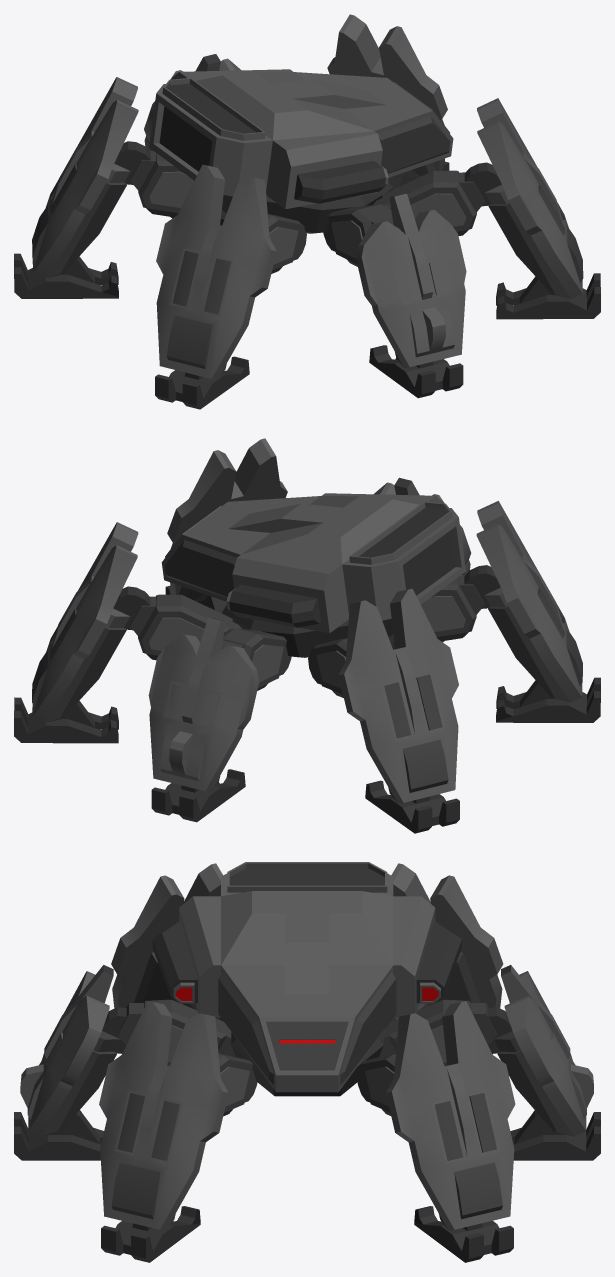
File: Boss.fbx
3 views of the same model, one above another, from view 1: azimuth 30°, elevation 25°; view 2: azimuth 150°, elevation 25°; view 3: azimuth 270°, elevation 25° (orthographic). The views are drawn at different scales.
Parts seen in each view (by area): view 1: Cube.255, Cube.350, Cube.351, Cube.286, Cube.348, Cube.287, Cube.349, Cube.345, Cube.302, Cube.303, Cube.346, Cube.344 (+4 smaller); view 2: Cube.255, Cube.286, Cube.312, Cube.350, Cube.287, Cube.348, Cube.298, Cube.296, Cube.344, Cube.347, Cube.314, Cube.302 (+4 smaller); view 3: Cube.255, Cube.348, Cube.287, Cube.351, Cube.312, Cube.286, Cube.350, Cube.314, Cube.346, Cube.296, Cube.345, Cube.352 (+4 smaller).
Boxes of the visible parts, left/top/right/bottom form: Cube.255: left=149, top=69, right=453, bottom=209; Cube.350: left=156, top=164, right=276, bottom=379; Cube.351: left=356, top=193, right=466, bottom=367; Cube.286: left=32, top=77, right=150, bottom=278; Cube.348: left=464, top=98, right=583, bottom=298; Cube.287: left=327, top=14, right=447, bottom=177; Cube.349: left=373, top=170, right=484, bottom=235; Cube.345: left=496, top=273, right=600, bottom=319; Cube.302: left=14, top=253, right=118, bottom=298; Cube.303: left=130, top=151, right=226, bottom=219; Cube.346: left=369, top=345, right=463, bottom=398; Cube.344: left=155, top=356, right=249, bottom=409; Cube.255: left=161, top=493, right=465, bottom=633; Cube.286: left=338, top=588, right=458, bottom=803; Cube.312: left=148, top=617, right=258, bottom=791; Cube.350: left=464, top=501, right=582, bottom=702; Cube.287: left=32, top=522, right=150, bottom=722; Cube.348: left=167, top=438, right=287, bottom=601; Cube.298: left=130, top=594, right=241, bottom=660; Cube.296: left=14, top=697, right=118, bottom=743; Cube.344: left=496, top=677, right=600, bottom=722; Cube.347: left=388, top=575, right=484, bottom=643; Cube.314: left=151, top=769, right=245, bottom=822; Cube.302: left=365, top=780, right=459, bottom=833; Cube.255: left=152, top=862, right=461, bottom=1092; Cube.348: left=99, top=1001, right=228, bottom=1230; Cube.287: left=386, top=1001, right=515, bottom=1230; Cube.351: left=20, top=965, right=126, bottom=1136; Cube.312: left=488, top=965, right=593, bottom=1136; Cube.286: left=391, top=863, right=503, bottom=1008; Cube.350: left=111, top=863, right=223, bottom=1008; Cube.314: left=510, top=1110, right=600, bottom=1160; Cube.346: left=14, top=1110, right=103, bottom=1160; Cube.296: left=414, top=1206, right=513, bottom=1262; Cube.345: left=101, top=1206, right=200, bottom=1262; Cube.352: left=117, top=999, right=235, bottom=1065.
Bounding box in the file's own units: 408 × 191 × 441.
Materials: 1 (1 with a texture image).
